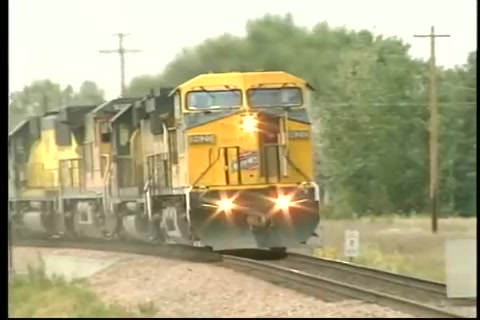train: (8, 70, 323, 258)
